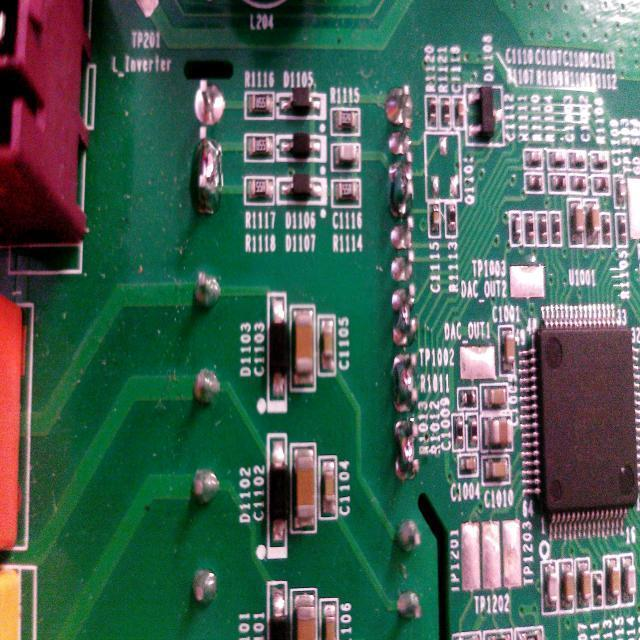Soldering shorted: (186, 125, 225, 222), (382, 282, 422, 350), (385, 150, 419, 218), (388, 350, 421, 416), (392, 414, 422, 481)
